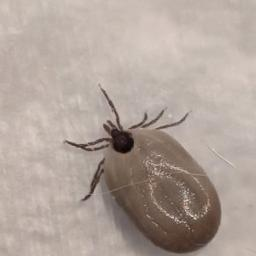Ixodes scapularis: (64, 83, 226, 253)
